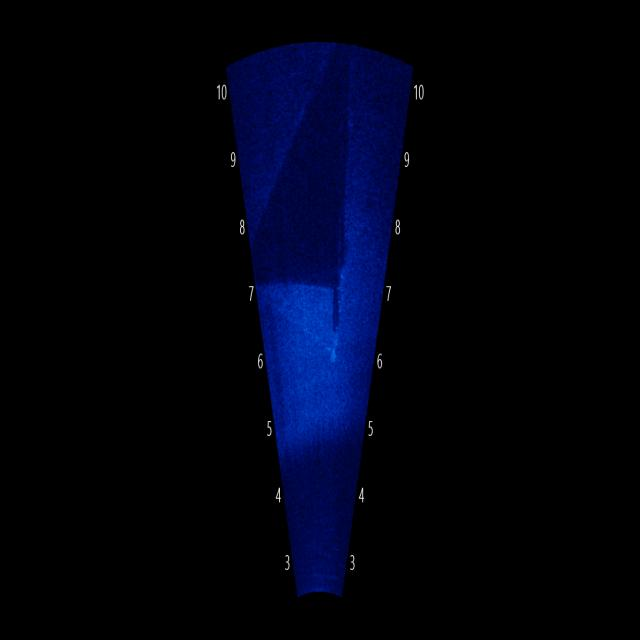triangle: (259, 265, 353, 376)
